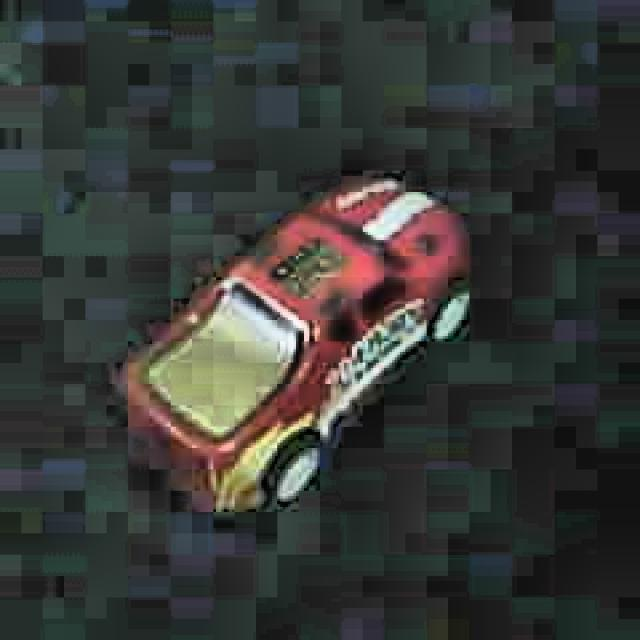car: (118, 173, 474, 525)
